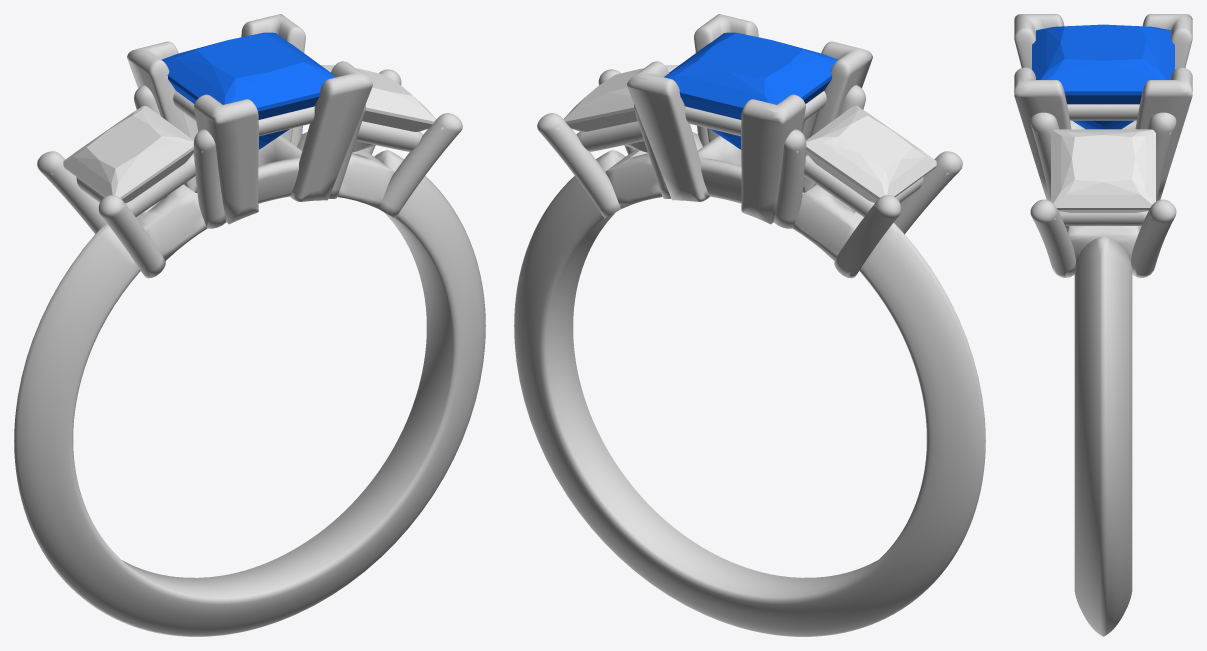
The model's file is bluesapphire-princess-platinum-protectededges4prongs-knifeedge-3stone.glb.
3 views of the same model, side by side, from view 1: azimuth 30°, elevation 25°; view 2: azimuth 150°, elevation 25°; view 3: azimuth 270°, elevation 25° (orthographic).
Parts seen in each view (by area): view 1: metal, stone, side.001, side; view 2: metal, stone, side.001, side; view 3: metal, stone, side.
Boxes of the visible parts, left/top/right/bottom form: metal: left=14, top=14, right=485, bottom=636; stone: left=161, top=32, right=335, bottom=149; side.001: left=63, top=106, right=193, bottom=203; side: left=321, top=65, right=436, bottom=152; metal: left=514, top=14, right=985, bottom=636; stone: left=664, top=32, right=838, bottom=149; side.001: left=806, top=106, right=936, bottom=203; side: left=563, top=65, right=678, bottom=152; metal: left=1014, top=14, right=1192, bottom=636; stone: left=1032, top=24, right=1174, bottom=129; side: left=1051, top=129, right=1155, bottom=212.
Size of the model in its own units: 20.49 by 23.85 by 6.77.
